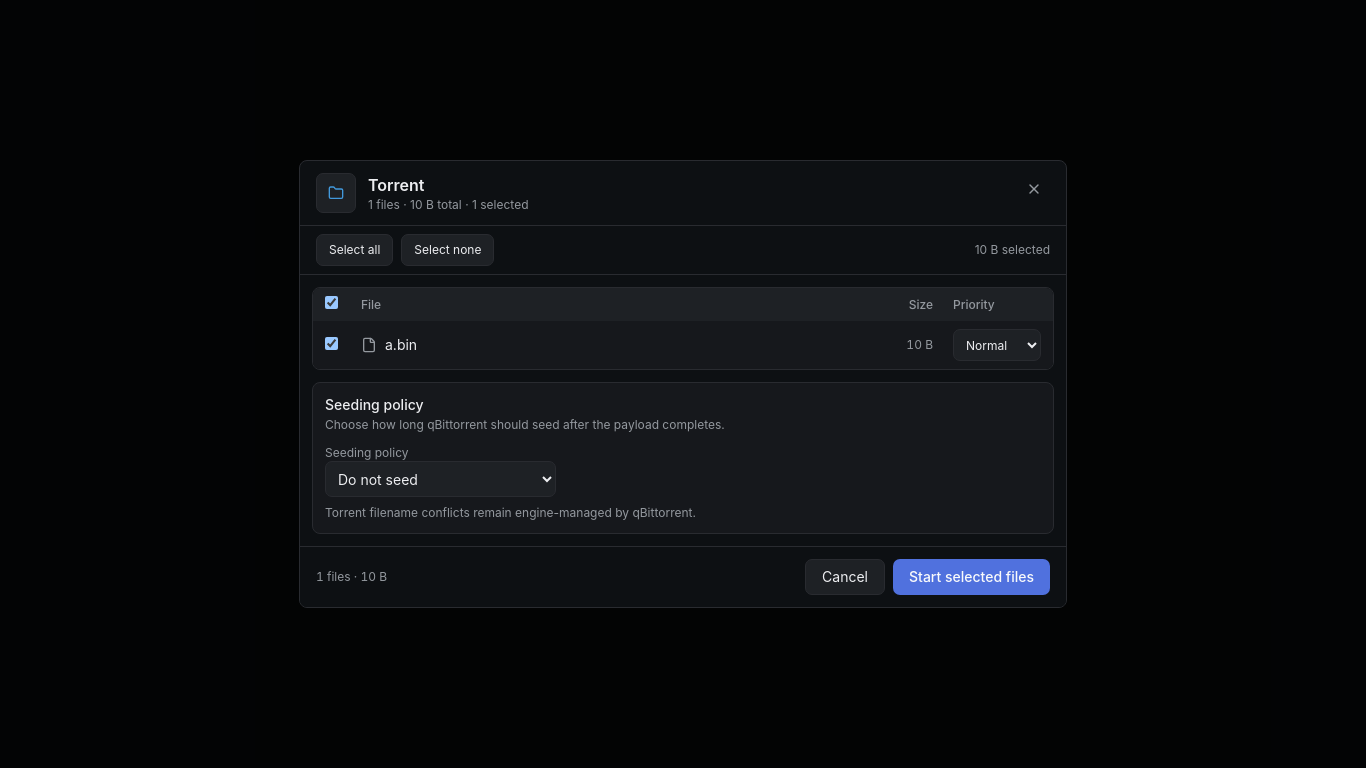
TorrentFileSelector seeding policy & submission › displays Starting... and disables Start and Cancel buttons during pending API request
Expected: the text "a.bin" is shown, [385,335,417,355]
Click the button with aria-label "Start Download" at [972, 577], box [893,559,1050,595]
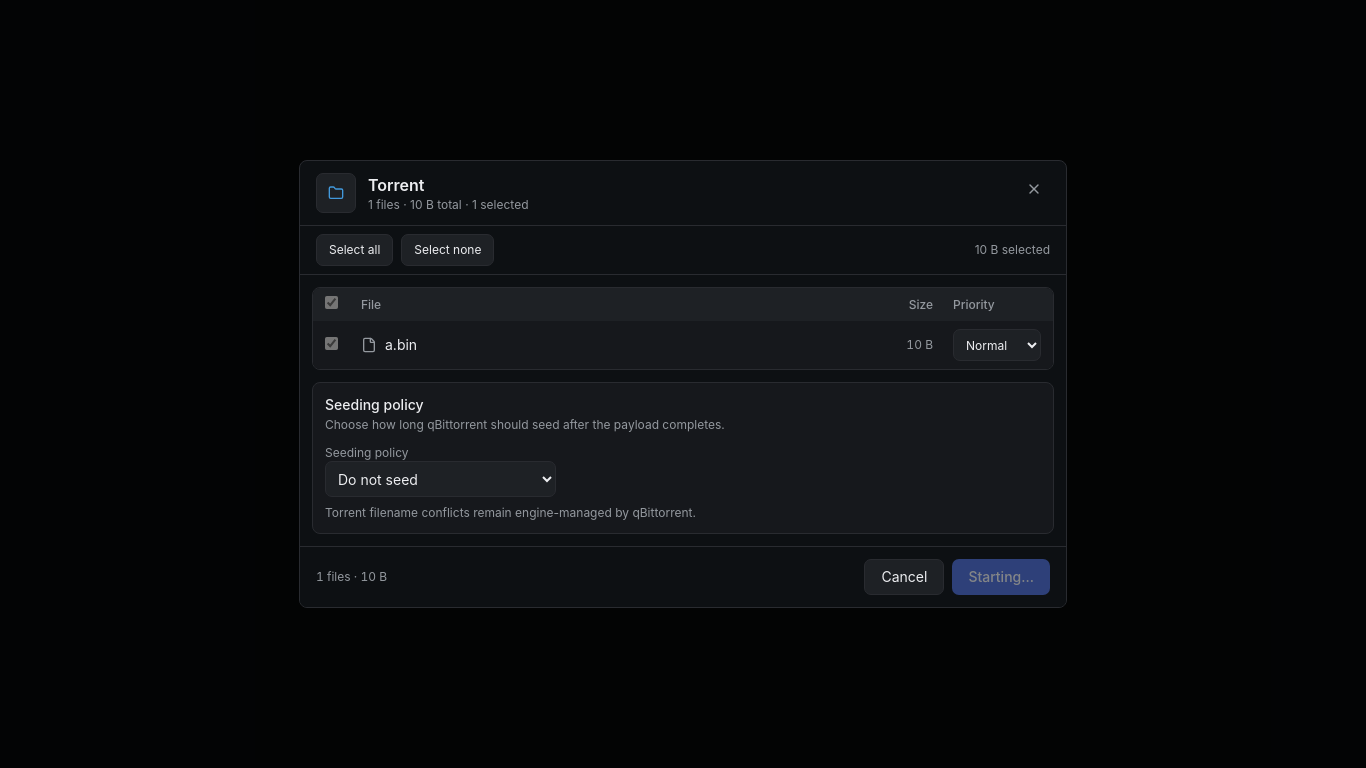
Result: the button "Starting…" is disabled at [952,559,1050,595]
Result: the button "Cancel" is disabled at [864,559,944,595]
